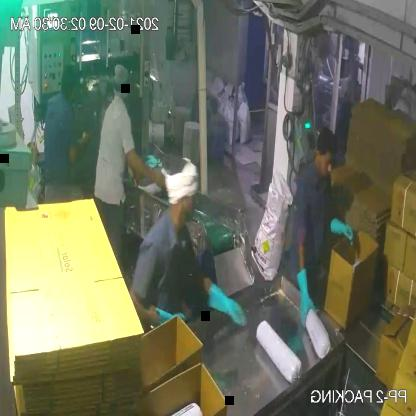glove: (201, 272, 252, 336), (293, 261, 322, 329), (327, 206, 362, 251)
no_glove: (122, 136, 170, 191)
